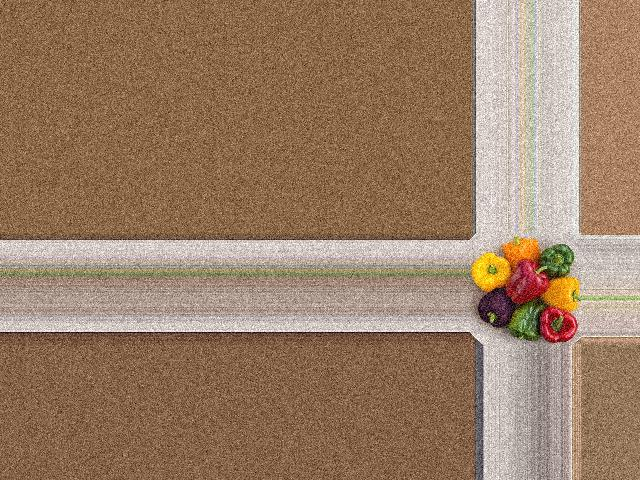bell_pepper: (479, 287, 521, 337)
